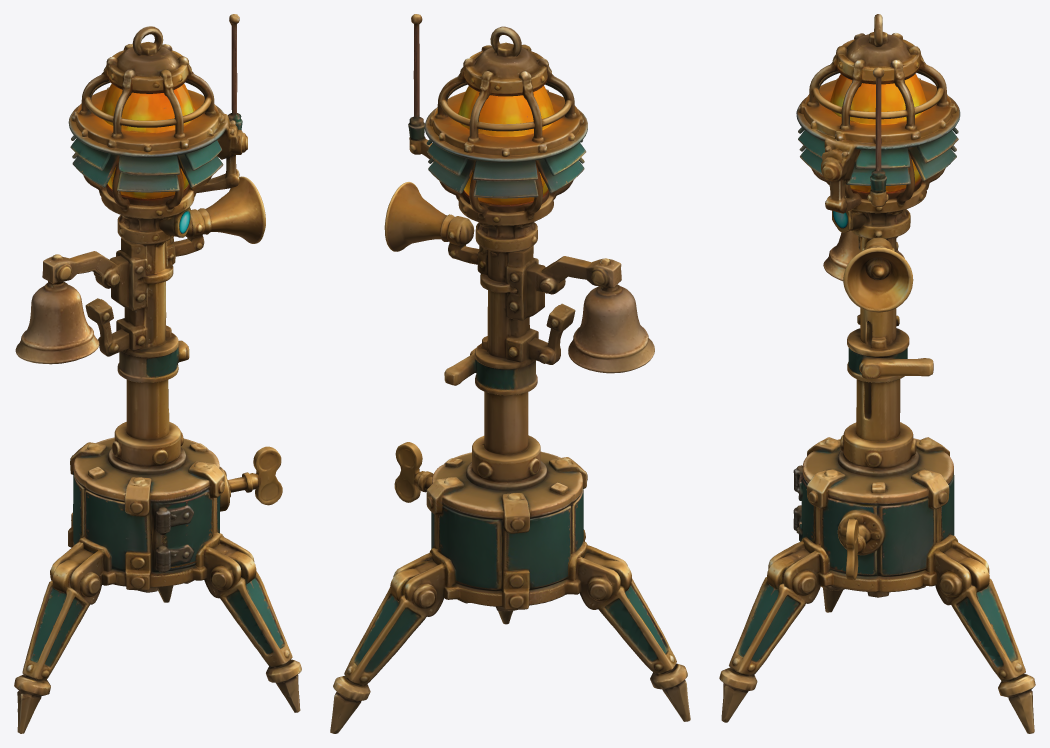
File: beacon_raw.glb
3 views of the same model, side by side, from view 1: azimuth 30°, elevation 25°; view 2: azimuth 150°, elevation 25°; view 3: azimuth 270°, elevation 25° (orthographic). The views are drawn at different scales.
Visible parts, largest first — view 1: tripo_node_25ff94fe-8eb8-4023-94f3-0d5dd21c76ba; view 2: tripo_node_25ff94fe-8eb8-4023-94f3-0d5dd21c76ba; view 3: tripo_node_25ff94fe-8eb8-4023-94f3-0d5dd21c76ba.
Part boxes in pixels (x1=…): tripo_node_25ff94fe-8eb8-4023-94f3-0d5dd21c76ba: x1=14, y1=14, x2=301, y2=733; tripo_node_25ff94fe-8eb8-4023-94f3-0d5dd21c76ba: x1=330, y1=14, x2=690, y2=733; tripo_node_25ff94fe-8eb8-4023-94f3-0d5dd21c76ba: x1=719, y1=14, x2=1035, y2=733.
Bounding box in the file's own units: 0.4398 × 1 × 0.4269.
1 material, 1 textured.
